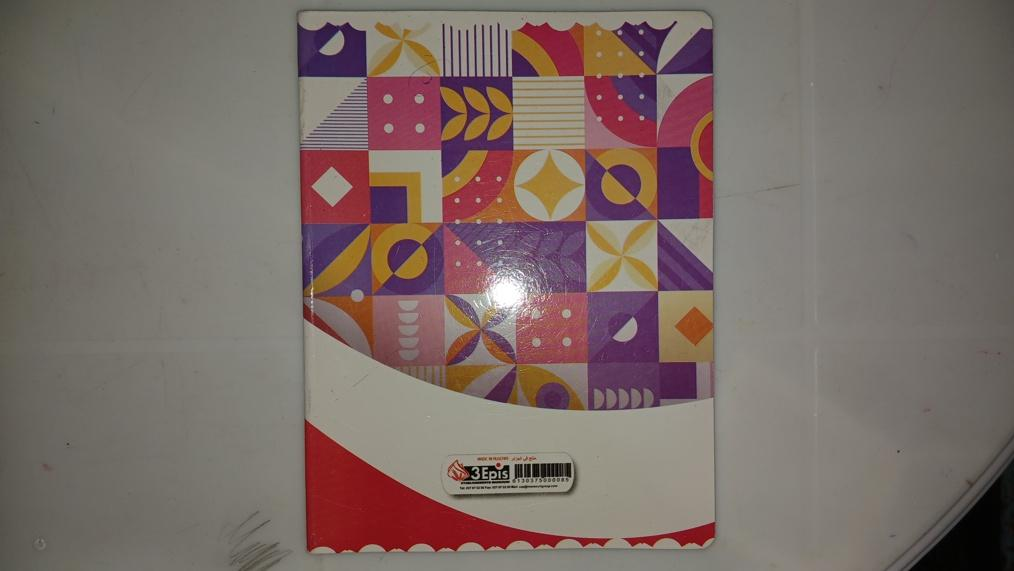notebook: (299, 12, 715, 556)
